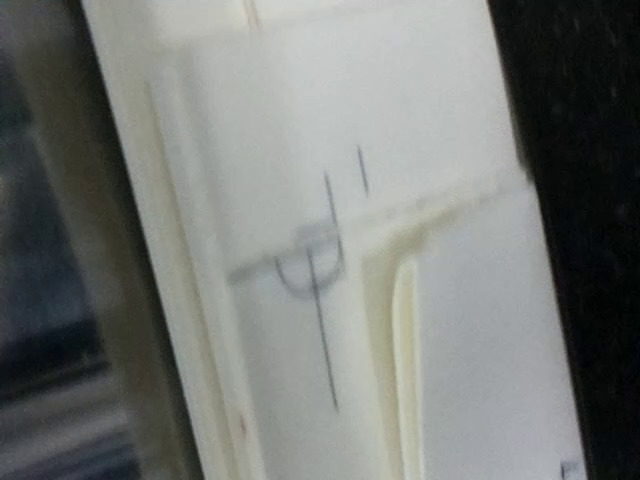misaligned: (256, 192, 384, 320)
